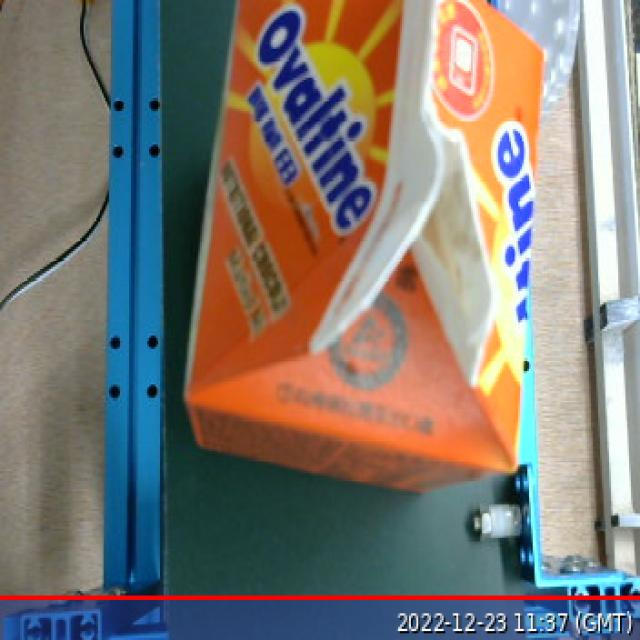non_white_jug: (159, 0, 557, 520)
